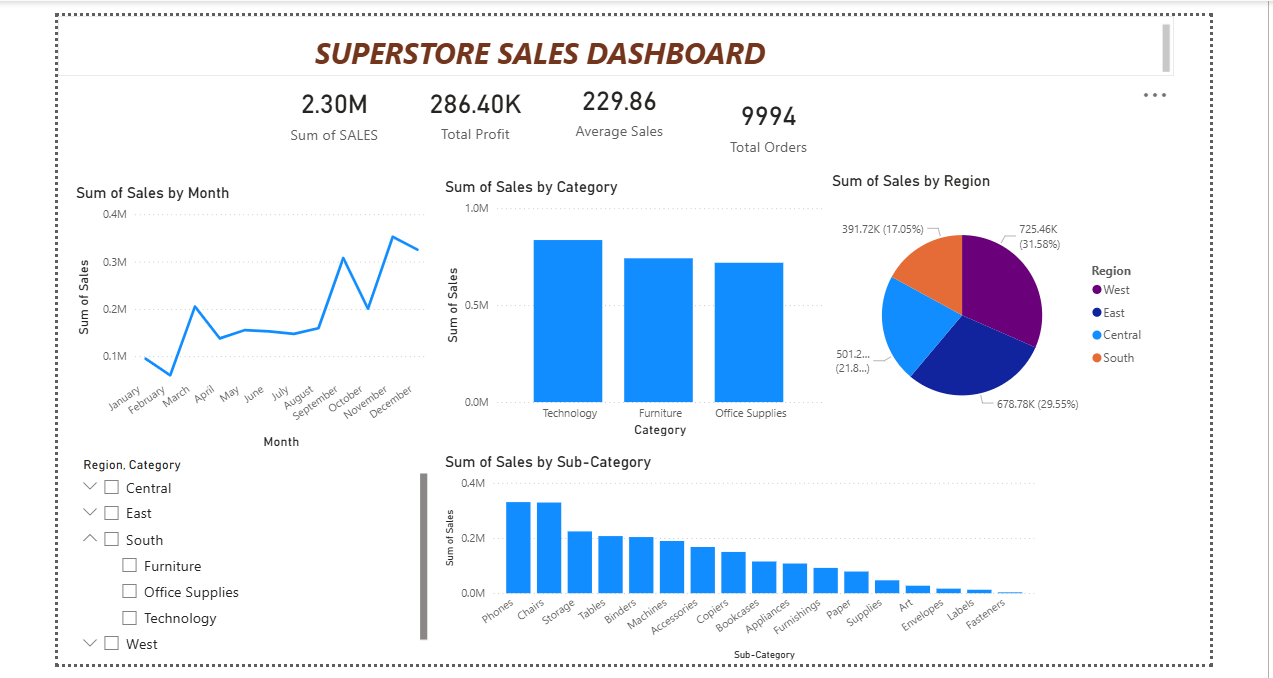

The dashboard page shown, as its layout file describes it:
{"tool":"powerbi","page":{"name":"Page 1","canvas":[1280,720],"ordinal":0},"visuals":[{"type":"card","fields":{"Values":["Sample - Superstore.Sum of SALES"]},"box":[221.7,53.3,170,106.7],"z":0},{"type":"card","fields":{"Values":["Sample - Superstore.Total Profit"]},"box":[391.7,53.3,143.3,105],"z":1},{"type":"card","fields":{"Values":["Sample - Superstore.Average Sales"]},"box":[535,46.7,176.7,111.7],"z":3},{"type":"lineChart","fields":{"Y":["Sum(Sample - Superstore.Sales)"],"Category":["Sample - Superstore.Order Date.Variation.Date Hierarchy.Month"]},"box":[15,186.7,400,298.3],"z":4},{"type":"clusteredColumnChart","fields":{"Category":["Sample - Superstore.Category"],"Y":["Sum(Sample - Superstore.Sales)"]},"box":[425,180,430,291.7],"z":5},{"type":"pieChart","fields":{"Category":["Sample - Superstore.Region"],"Y":["Sum(Sample - Superstore.Sales)"]},"box":[855,173.3,363.3,298.3],"z":6},{"type":"slicer","fields":{"Values":["Sample - Superstore.Region","Sample - Superstore.Category"]},"box":[15,485,400,225],"z":8},{"type":"clusteredColumnChart","fields":{"Category":["Sample - Superstore.Sub-Category"],"Y":["Sum(Sample - Superstore.Sales)"]},"box":[425,485,665,235],"z":9},{"type":"textbox","box":[0,0,1240,66.7],"z":10},{"type":"card","fields":{"Values":["Sample - Superstore.Total Orders"]},"box":[711.7,66.7,155,106.7],"z":11}]}

Visuals, with their boxes on the page's 1280x720 design canvas (x1, y1, x2, y2). These are canvas units, not pixel positions in the 1273x678 screenshot, which may show the page scaled, cropped or inside an application window:
card - Sample - Superstore.Sum of SALES: <bbox>222, 53, 392, 160</bbox>
card - Sample - Superstore.Total Profit: <bbox>392, 53, 535, 158</bbox>
card - Sample - Superstore.Average Sales: <bbox>535, 47, 712, 158</bbox>
lineChart - Sum(Sample - Superstore.Sales) x Sample - Superstore.Order Date.Variation.Date Hierarchy.Month: <bbox>15, 187, 415, 485</bbox>
clusteredColumnChart - Sample - Superstore.Category x Sum(Sample - Superstore.Sales): <bbox>425, 180, 855, 472</bbox>
pieChart - Sample - Superstore.Region x Sum(Sample - Superstore.Sales): <bbox>855, 173, 1218, 472</bbox>
slicer - Sample - Superstore.Region x Sample - Superstore.Category: <bbox>15, 485, 415, 710</bbox>
clusteredColumnChart - Sample - Superstore.Sub-Category x Sum(Sample - Superstore.Sales): <bbox>425, 485, 1090, 720</bbox>
textbox: <bbox>0, 0, 1240, 67</bbox>
card - Sample - Superstore.Total Orders: <bbox>712, 67, 867, 173</bbox>
